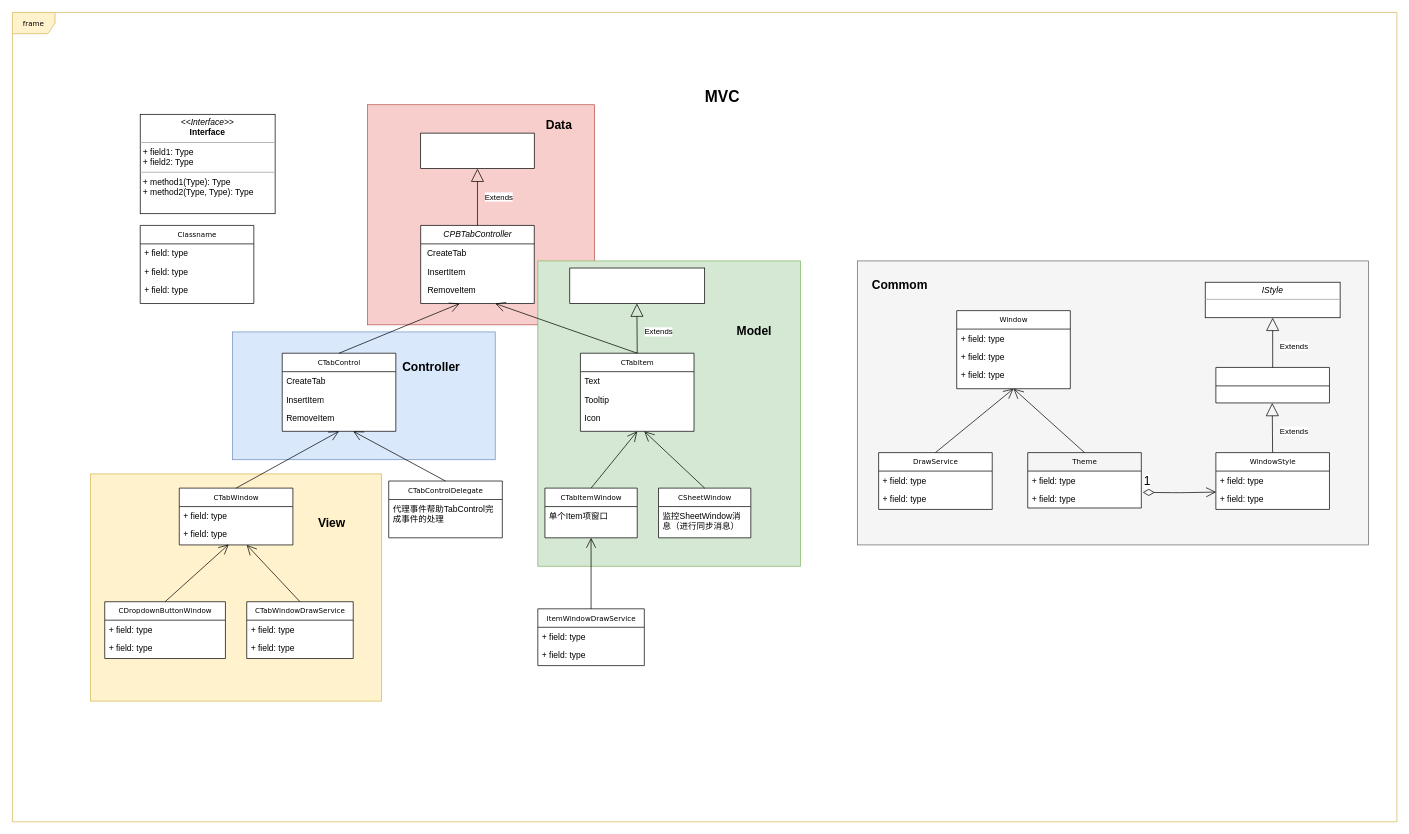
This 1409x834 diagram has some shape labels left out. Here are the shapes that lost their labels. From the top down, the centre of each, then its label:
(x=477, y=150): IPBTabController
(x=637, y=285): IPBTabItem
(x=1272, y=385): CStyle
